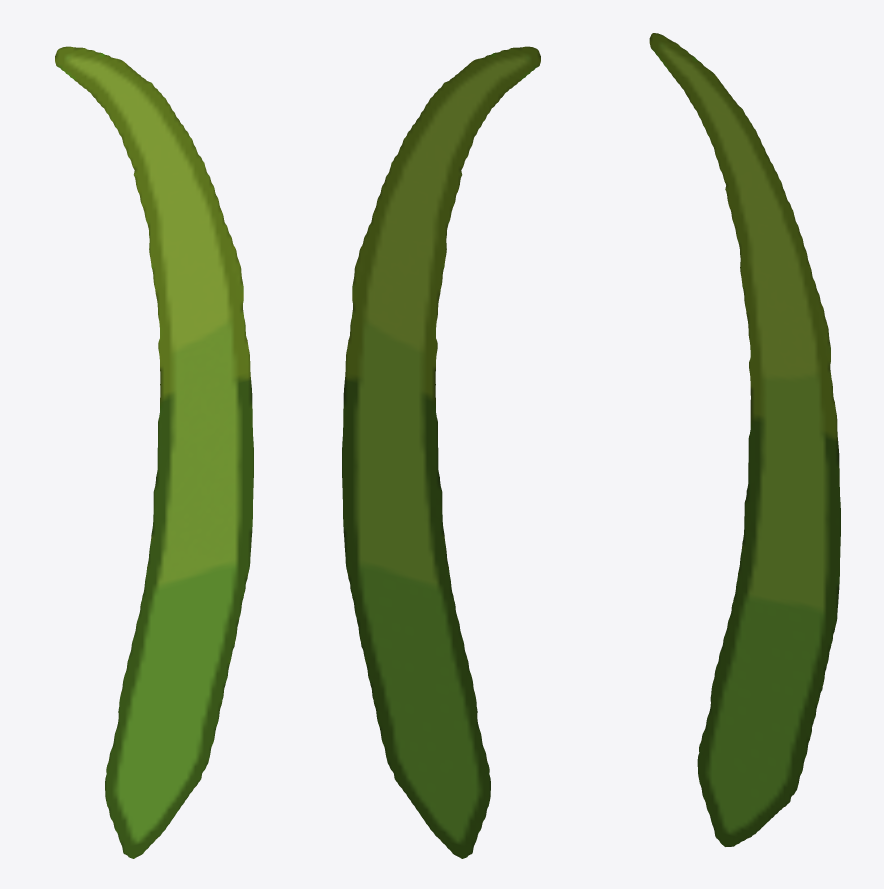
The model's file is CespedC.fbx.
3 views of the same model, side by side, from view 1: azimuth 30°, elevation 25°; view 2: azimuth 150°, elevation 25°; view 3: azimuth 330°, elevation 25° (orthographic). The views are drawn at different scales.
Parts seen in each view (by area): view 1: CespedC; view 2: CespedC; view 3: CespedC.
Boxes of the visible parts, box(x1,y1,x2,y2) form: CespedC: box(55, 46, 253, 858); CespedC: box(342, 46, 540, 858); CespedC: box(649, 33, 840, 846).
Bounding box in the file's own units: 0.1659 × 0.4948 × 2.16e-08.
